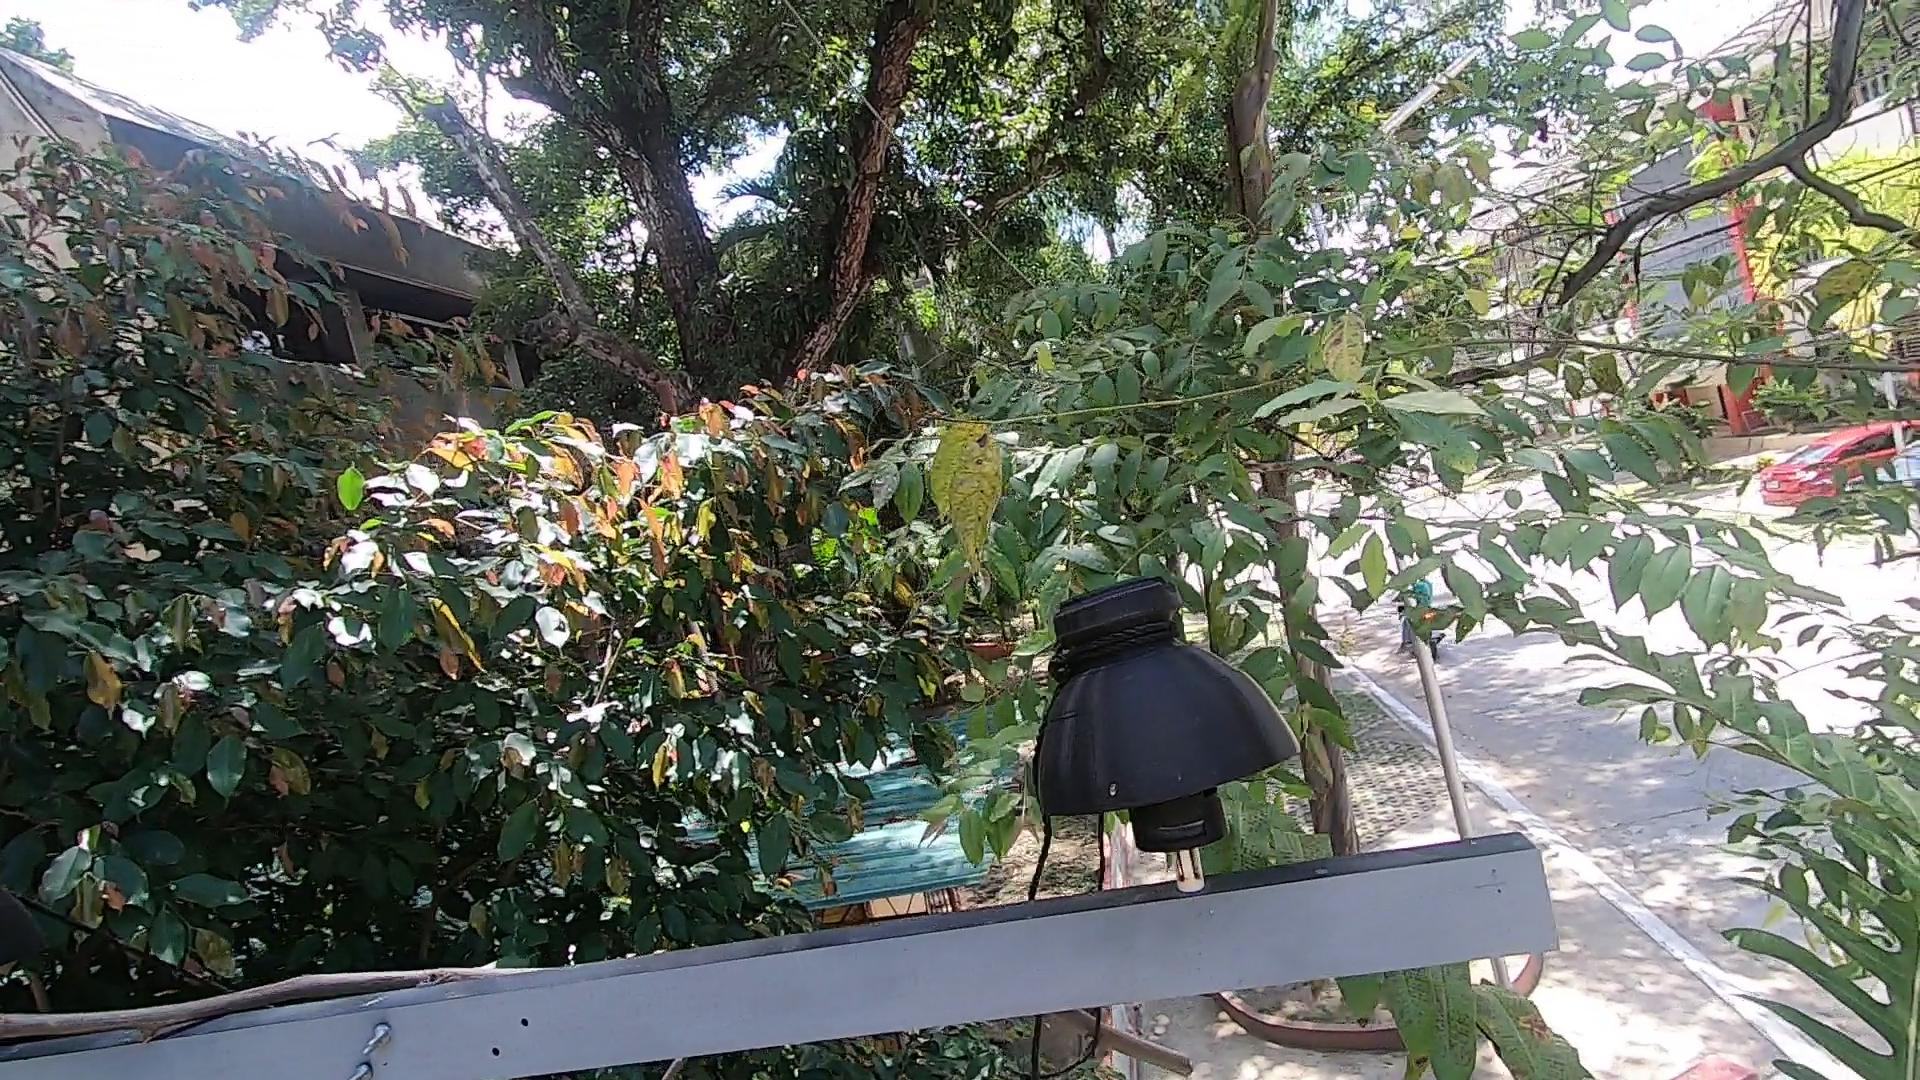tree branch: (1, 945, 543, 1077), (1046, 1007, 1205, 1075), (653, 1054, 683, 1080)
